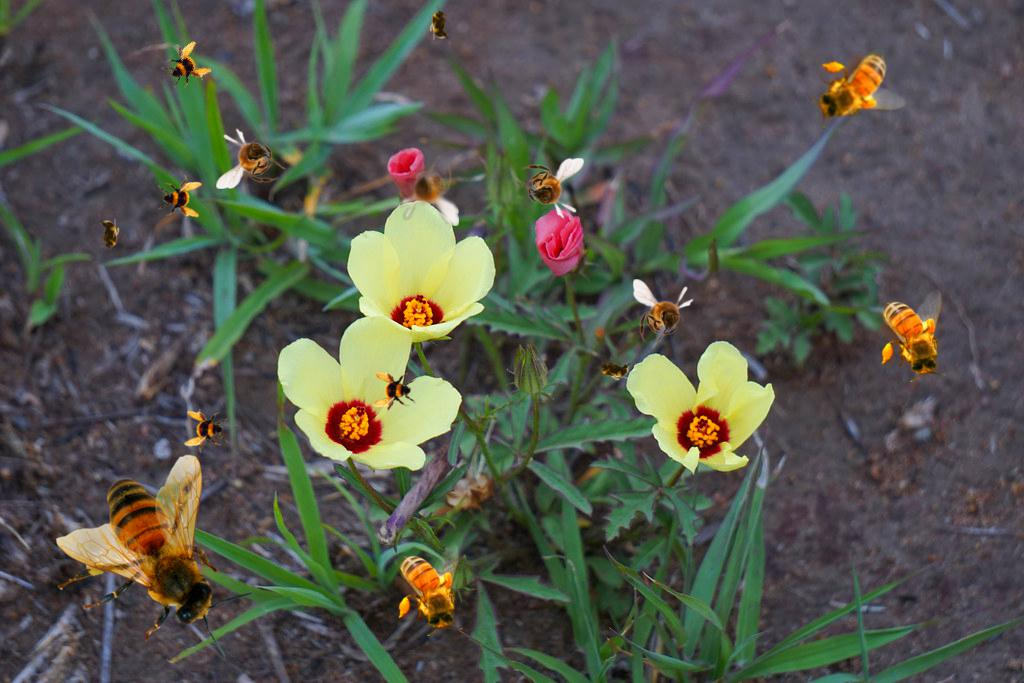Bee: (56, 454, 255, 658), (803, 44, 909, 131), (878, 289, 946, 382), (395, 543, 463, 636), (398, 156, 459, 226), (216, 128, 286, 189), (514, 158, 584, 219), (633, 279, 694, 349), (154, 34, 216, 96), (372, 370, 416, 414), (158, 175, 202, 219), (184, 409, 228, 453), (592, 354, 636, 384), (98, 215, 120, 255), (429, 4, 451, 44)
